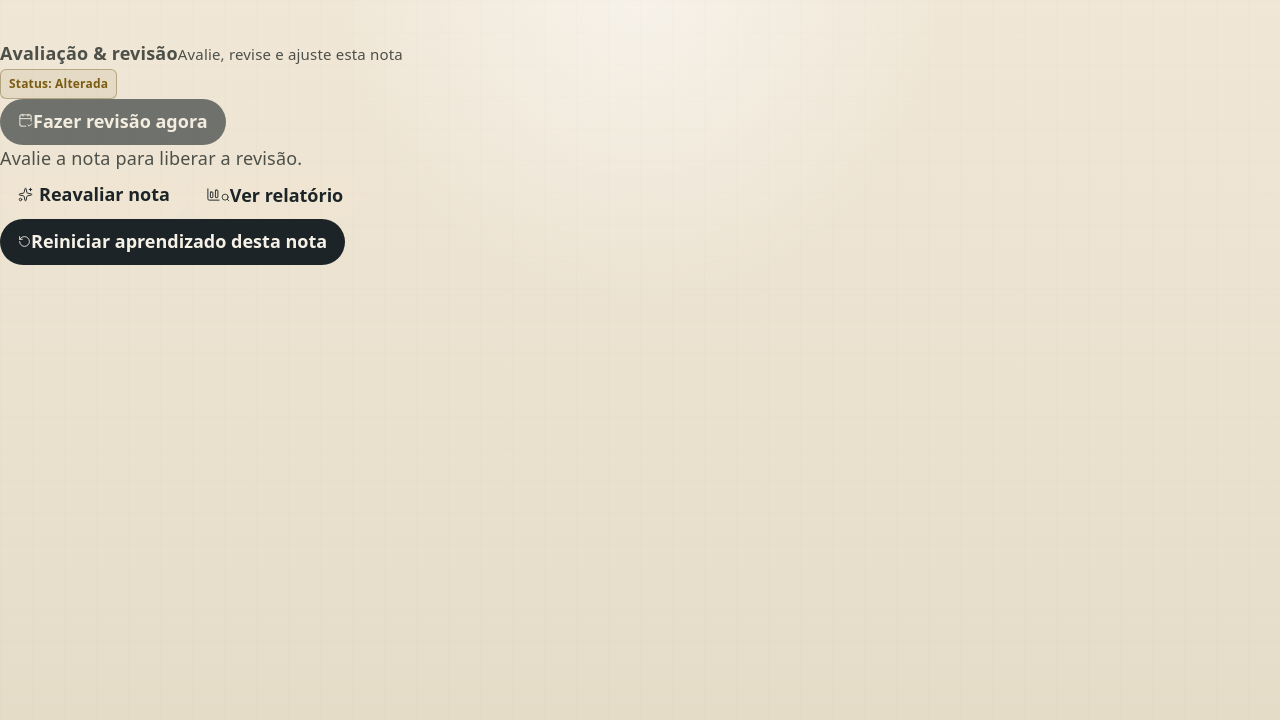
Test: NoteReadinessControl › reopens the persisted report of an enrolled modified note
This screenshot has width=1280, height=720.
Step 1. Click the button with aria-label "Abrir" → {"x": 275, "y": 196}, box [188, 172, 361, 218]
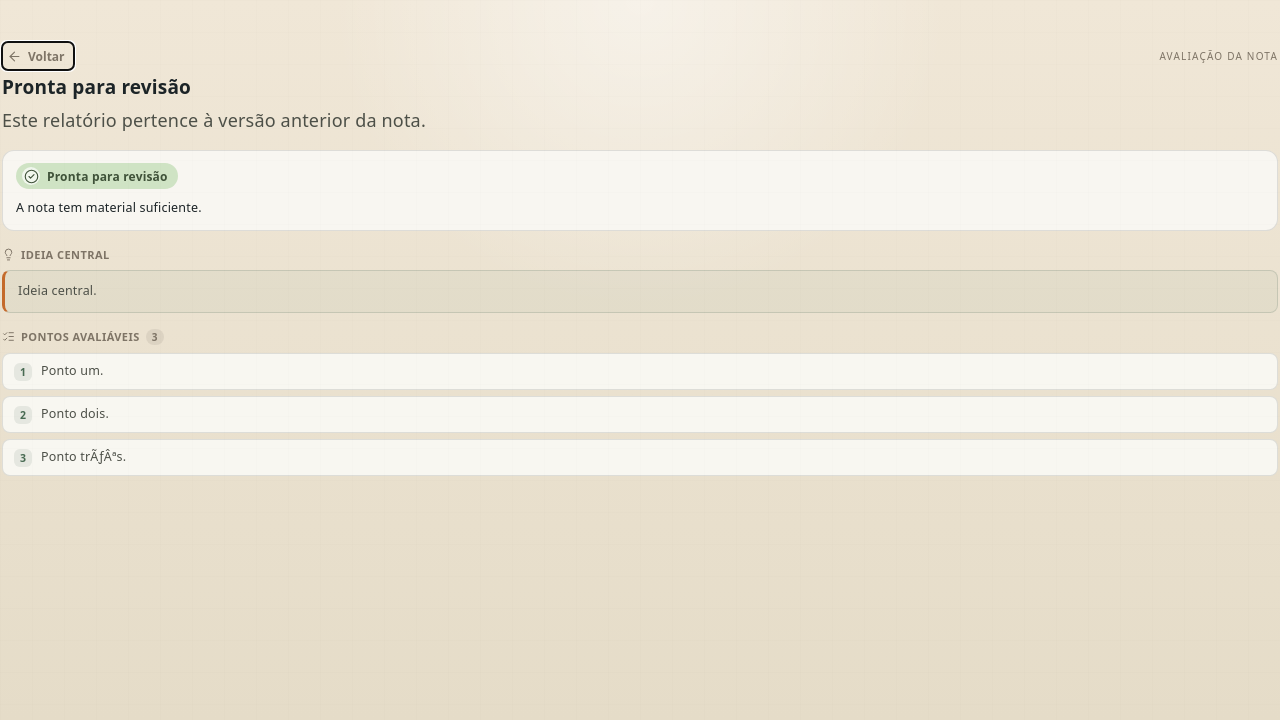
expect the text "Este relatório pertence à versão anterior da nota." is shown: met, box [2, 108, 426, 132]
